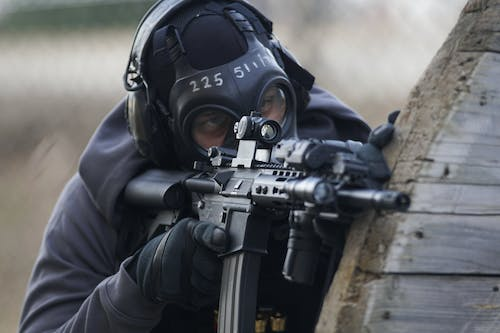gun: (118, 111, 413, 333)
